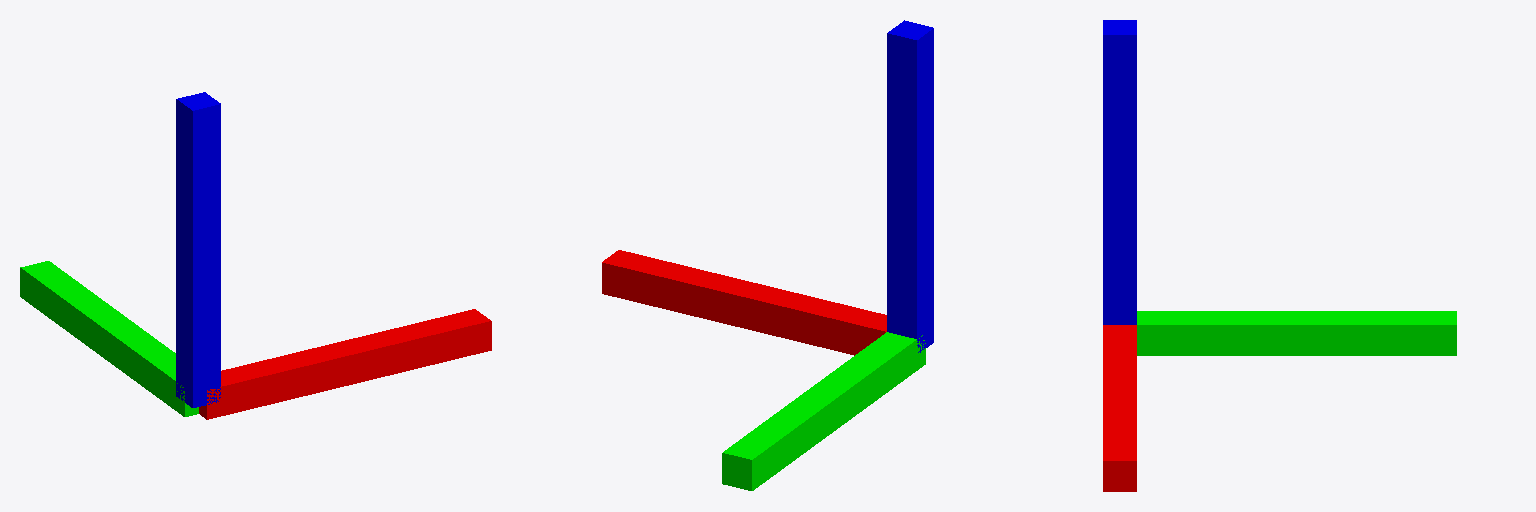
The robot description file, URDF, robot "coordinates":
<?xml version="0.0" ?>
<robot name="coordinates">    

    <link name="origin_link">
    <inertial>
            <origin rpy="0 0 0" xyz="0 0 0"/>
            <mass value="0.00"/>
            <inertia ixx="0" ixy="0" ixz="0" iyy="0" iyz="0" izz="0"/>
        </inertial>
    </link>

    <joint name="ee_coordinate_x_joint" type="fixed">
        <parent link="origin_link"/>
        <child link="coordinate_x_link"/>
        <origin rpy="0 0 0.0" xyz="0 0.0 0.0"/>
    </joint>
    <joint name="ee_coordinate_y_joint" type="fixed">
        <parent link="origin_link"/>
        <child link="coordinate_y_link"/>
        <origin rpy="0 0 0.0" xyz="0.0 0 0.0"/>
    </joint>
    <joint name="ee_coordinate_z_joint" type="fixed">
        <parent link="origin_link"/>
        <child link="coordinate_z_link"/>
        <origin rpy="0 0 0.0" xyz="0.0 0.0 0"/>
    </joint>
    <link name="coordinate_x_link">
        <visual>
            <geometry>
                <box size="0.05 0.005 0.005"/>
            </geometry>
            <origin rpy="0 0 0" xyz="0.025 0  0"/>
            <material name="red">
                <color rgba="1 0 0 0.5"/>
            </material>
        </visual>
        <inertial>
            <origin rpy="0 0 0" xyz="0 0 0"/>
            <mass value="0.00"/>
            <inertia ixx="0" ixy="0" ixz="0" iyy="0" iyz="0" izz="0"/>
        </inertial>
    </link>
    <link name="coordinate_y_link">
        <visual>
            <geometry>
                <box size="0.005 0.05 0.005"/>
            </geometry>
            <origin rpy="0 0 0" xyz="0 0.025 0"/>
            <material name="green">
                <color rgba="0 1 0 0.5"/>
            </material>
        </visual>
        <inertial>
            <origin rpy="0 0 0" xyz="0 0 0"/>
            <mass value="0.00"/>
            <inertia ixx="0" ixy="0" ixz="0" iyy="0" iyz="0" izz="0"/>
        </inertial>
    </link>
    <link name="coordinate_z_link">
        <visual>
            <geometry>
                <box size="0.005 0.005 0.05"/>
            </geometry>
            <origin rpy="0 0 0" xyz="0 0 0.025"/>
            <material name="blue">
                <color rgba="0 0 1 0.5"/>
            </material>
        </visual>
        <inertial>
            <origin rpy="0 0 0" xyz="0 0 0"/>
            <mass value="0.00"/>
            <inertia ixx="0" ixy="0" ixz="0" iyy="0" iyz="0" izz="0"/>
        </inertial>
    </link>
</robot>

--- Facts derived from the render (not from the file) ---
The picture shows the robot from 3 angles, left to right: view 1: azimuth 30°, elevation 25°; view 2: azimuth 150°, elevation 25°; view 3: azimuth 270°, elevation 25°; orthographic projection.
Robot: coordinates — 4 links, 3 joints (3 fixed); root link origin_link; default pose: every joint at zero.
Visible links, largest first — view 1: coordinate_z_link, coordinate_x_link, coordinate_y_link; view 2: coordinate_z_link, coordinate_x_link, coordinate_y_link; view 3: coordinate_y_link, coordinate_z_link, coordinate_x_link.
Boxes of the visible links, bbox=[...] form: coordinate_z_link: bbox=[176, 92, 220, 407]; coordinate_x_link: bbox=[199, 309, 491, 419]; coordinate_y_link: bbox=[20, 261, 198, 416]; coordinate_z_link: bbox=[887, 20, 933, 352]; coordinate_x_link: bbox=[602, 250, 886, 355]; coordinate_y_link: bbox=[722, 332, 925, 490]; coordinate_y_link: bbox=[1137, 311, 1456, 355]; coordinate_z_link: bbox=[1103, 20, 1136, 324]; coordinate_x_link: bbox=[1103, 325, 1136, 491].
Size in the robot's own frame: 0.0525 by 0.0525 by 0.0525 metres.
Geometry: primitives only (box / cylinder / sphere), no mesh files.